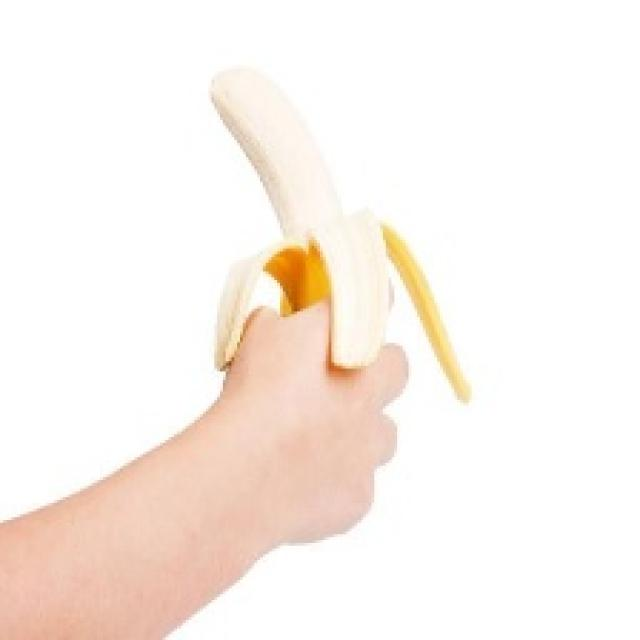Banana: (206, 63, 471, 403)
